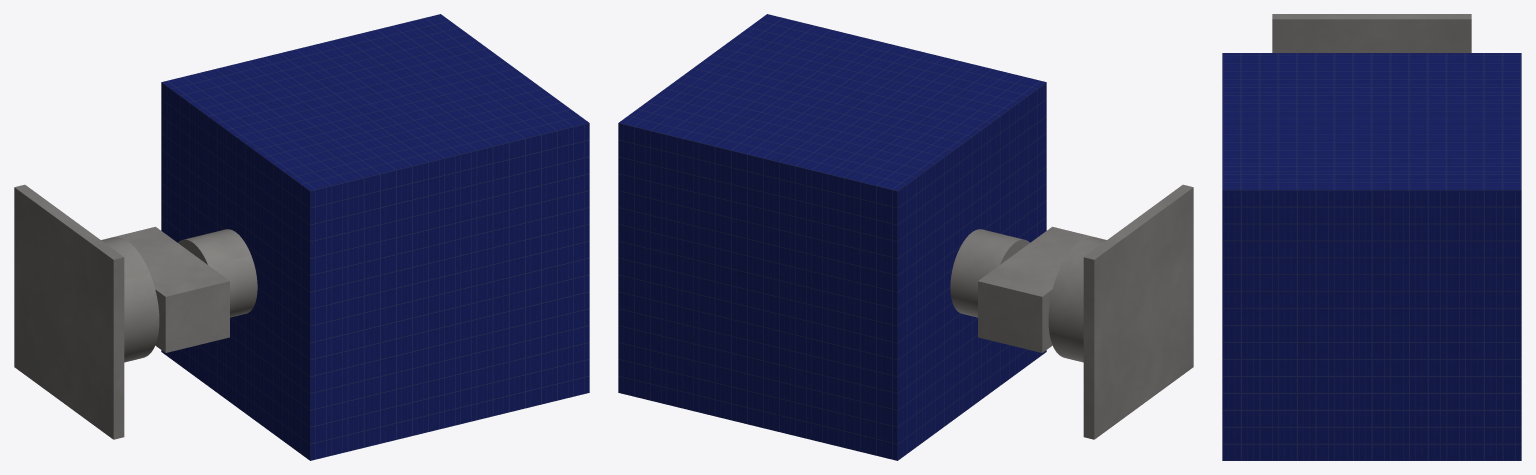
The model's file is power02_iontug_array.glb.
3 renders of one model, left to right at view 1: azimuth 30°, elevation 25°; view 2: azimuth 150°, elevation 25°; view 3: azimuth 270°, elevation 25°, orthographic.
Parts seen in each view (by area): view 1: folded_panel_stack, gimbal; view 2: folded_panel_stack, gimbal; view 3: folded_panel_stack, gimbal.
Boxes of the visible parts, x1=… form: folded_panel_stack: x1=161, y1=14, x2=589, y2=460; gimbal: x1=14, y1=184, x2=257, y2=439; folded_panel_stack: x1=618, y1=14, x2=1046, y2=460; gimbal: x1=950, y1=184, x2=1193, y2=439; folded_panel_stack: x1=1222, y1=53, x2=1521, y2=460; gimbal: x1=1272, y1=14, x2=1471, y2=52.
Size of the model in its own units: 4.2 by 2.4 by 2.4.
2 materials, 2 textured.
